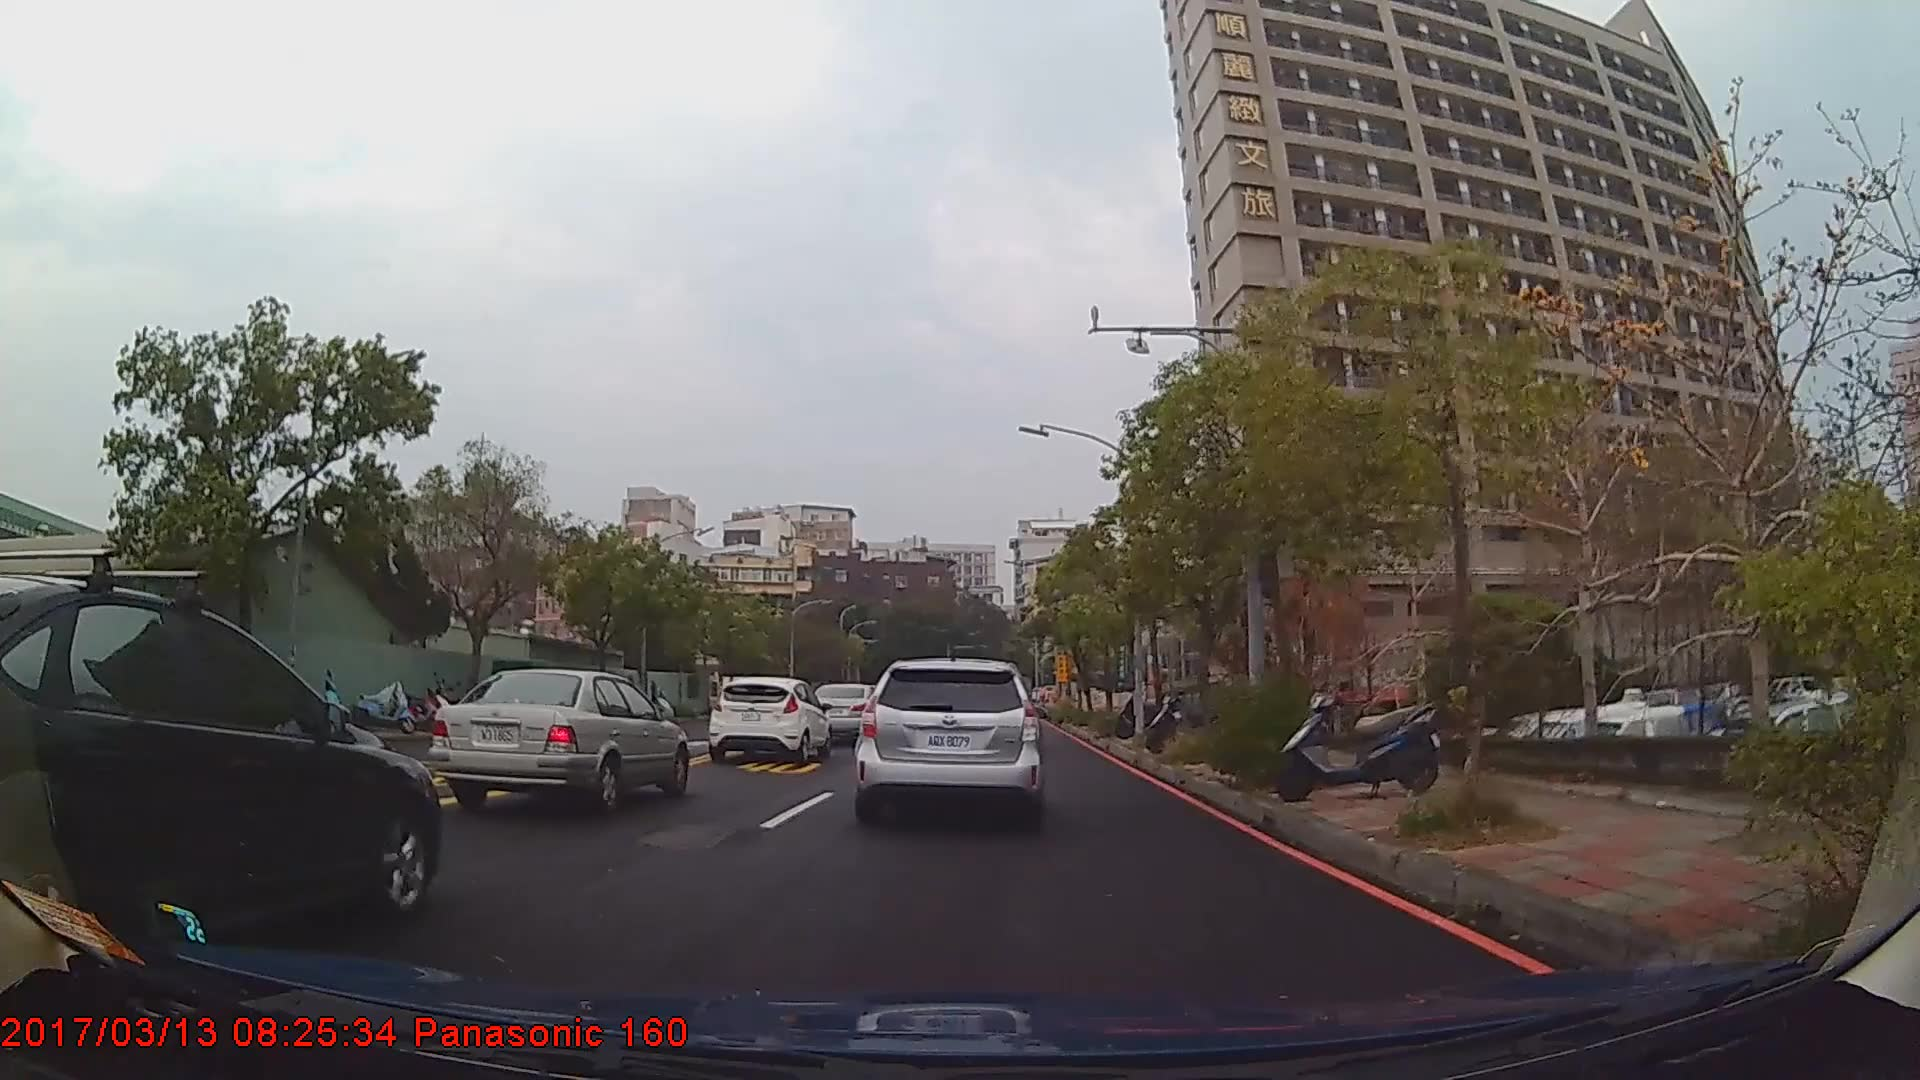vehicle: (0, 570, 440, 963), (429, 667, 688, 815), (852, 658, 1043, 825), (708, 674, 832, 761), (808, 682, 881, 744)
